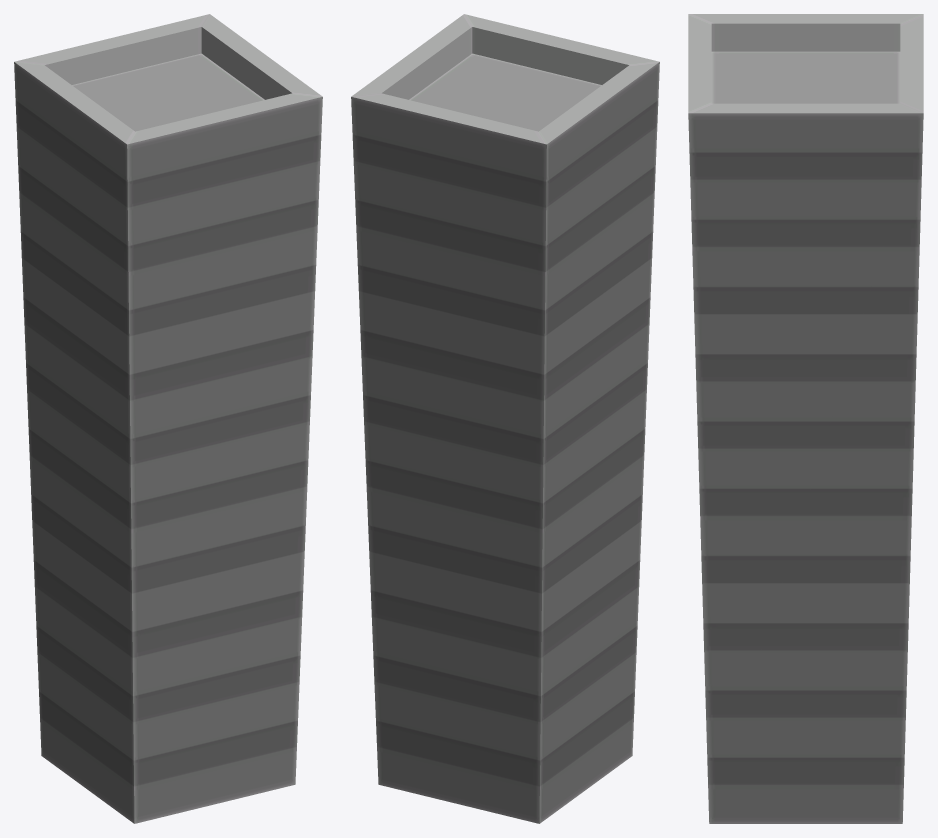
Rendered from Skyscraper_A4.fbx.
3 views of the same model, side by side, from view 1: azimuth 30°, elevation 25°; view 2: azimuth 150°, elevation 25°; view 3: azimuth 270°, elevation 25° (orthographic). The views are drawn at different scales.
Visible parts, largest first — view 1: Skyscraper_A4; view 2: Skyscraper_A4; view 3: Skyscraper_A4.
Boxes of the visible parts, bbox=[...] form: Skyscraper_A4: bbox=[14, 14, 322, 823]; Skyscraper_A4: bbox=[351, 14, 659, 823]; Skyscraper_A4: bbox=[688, 14, 923, 823].
Size of the model in its own units: 0.5309 by 1.79 by 0.5309.
1 material, 1 textured.
